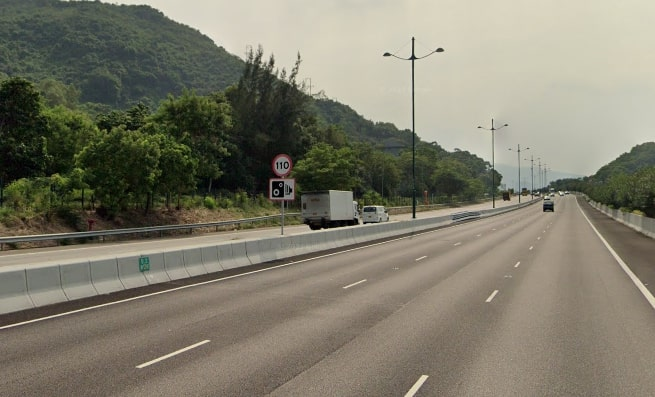Speed Limit: (272, 154, 293, 176)
